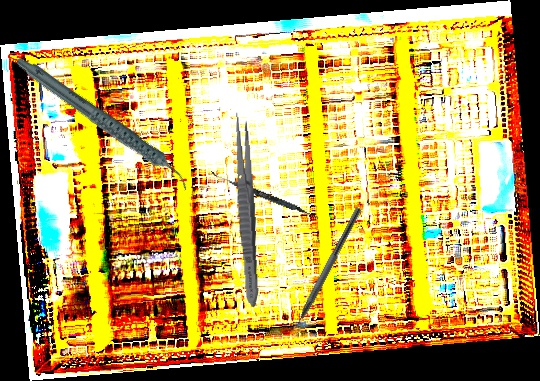Chopper: (280, 202, 363, 341)
Dressing Forceps: (230, 111, 263, 309)
Handpiece: (12, 26, 193, 222)
Spatula Surgical: (208, 171, 321, 220)
